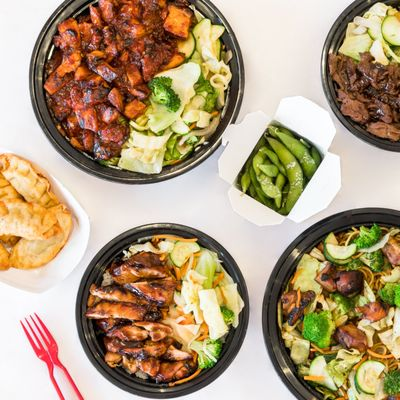burger: (19, 311, 86, 400)
curry: (302, 308, 333, 349), (148, 76, 182, 113), (354, 223, 382, 250), (379, 282, 400, 308), (383, 366, 400, 396)
sushi: (32, 0, 244, 186), (74, 222, 250, 398), (261, 207, 400, 400), (219, 97, 342, 227), (0, 151, 91, 295), (321, 0, 400, 155)
